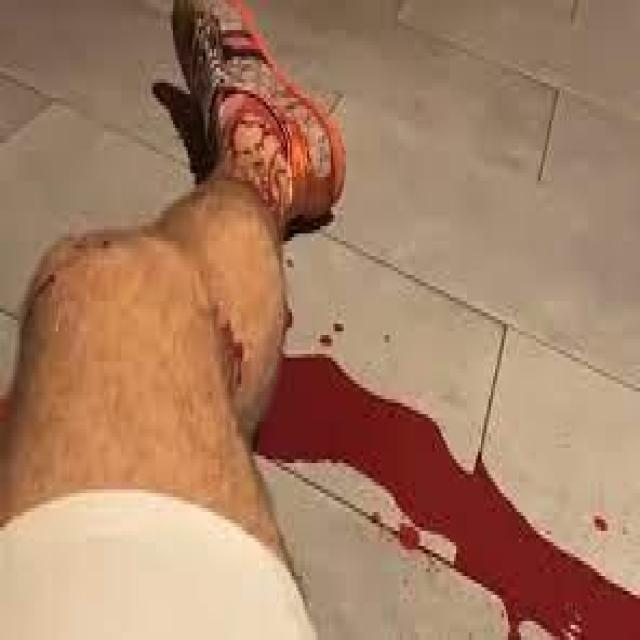flood: (259, 316, 640, 640)
